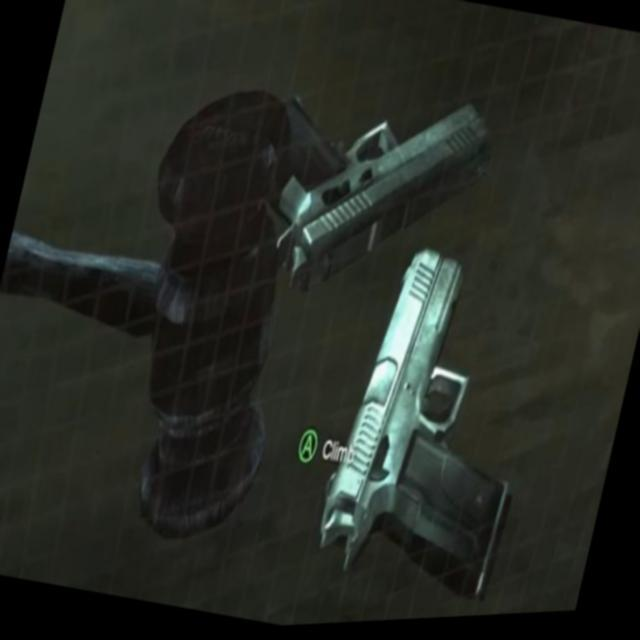weapon: (304, 234, 562, 616)
